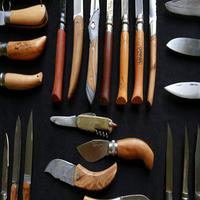knife: (38, 153, 132, 187), (42, 109, 132, 139), (72, 136, 161, 164), (162, 119, 178, 200), (178, 115, 192, 200), (25, 108, 36, 196), (11, 111, 20, 194), (1, 132, 11, 200)
